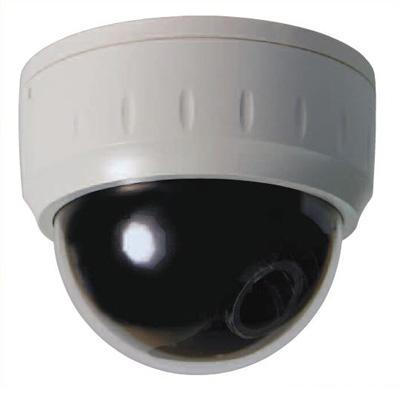360-Cam: (14, 15, 381, 382)
